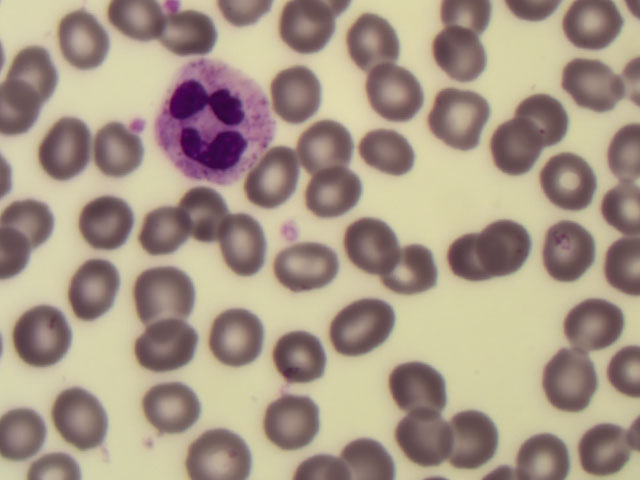Platelets: (278, 220, 302, 243), (129, 116, 145, 135), (161, 1, 180, 14)
RBC: (53, 9, 111, 70), (10, 44, 68, 105), (37, 117, 95, 178), (85, 124, 143, 185), (75, 189, 133, 250), (70, 255, 128, 316), (15, 303, 73, 364), (136, 262, 194, 323), (126, 200, 184, 261), (178, 183, 236, 244), (206, 212, 264, 273), (137, 312, 195, 373), (55, 385, 113, 446), (141, 377, 199, 438), (187, 419, 245, 480), (268, 389, 326, 450), (274, 330, 332, 391), (212, 307, 270, 368), (274, 239, 332, 300), (335, 215, 393, 276), (376, 236, 434, 297), (305, 171, 363, 232), (244, 152, 302, 213), (290, 112, 348, 173), (268, 61, 326, 122), (360, 123, 418, 184), (366, 62, 424, 123), (344, 14, 402, 75), (168, 12, 226, 73), (103, 2, 161, 63), (423, 26, 481, 87), (562, 59, 620, 120), (516, 84, 574, 145), (488, 119, 546, 180), (429, 87, 487, 148), (540, 147, 598, 208), (543, 213, 601, 274), (483, 217, 541, 278), (440, 230, 498, 291), (560, 294, 618, 355), (540, 352, 598, 413), (581, 419, 639, 480), (520, 419, 578, 480), (448, 405, 506, 466), (398, 407, 456, 468), (385, 361, 443, 422), (334, 295, 392, 356), (285, 1, 343, 61), (432, 1, 490, 61), (554, 1, 612, 61), (1, 397, 58, 458)
WBC: (155, 53, 270, 178)
